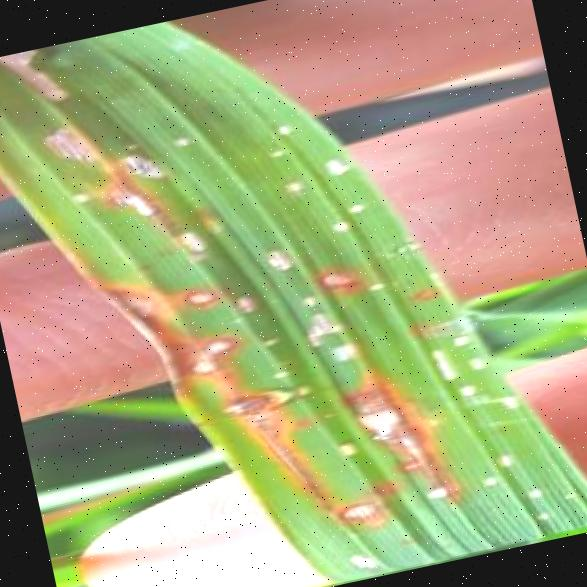Leaf_smut: (91, 255, 213, 406), (302, 446, 411, 554), (333, 366, 434, 475), (54, 162, 165, 255), (290, 244, 380, 323), (102, 116, 181, 204), (0, 42, 78, 115), (28, 112, 113, 174), (168, 258, 234, 326), (152, 204, 211, 274), (190, 302, 246, 369), (210, 365, 270, 425), (174, 335, 221, 393), (321, 415, 367, 470)
